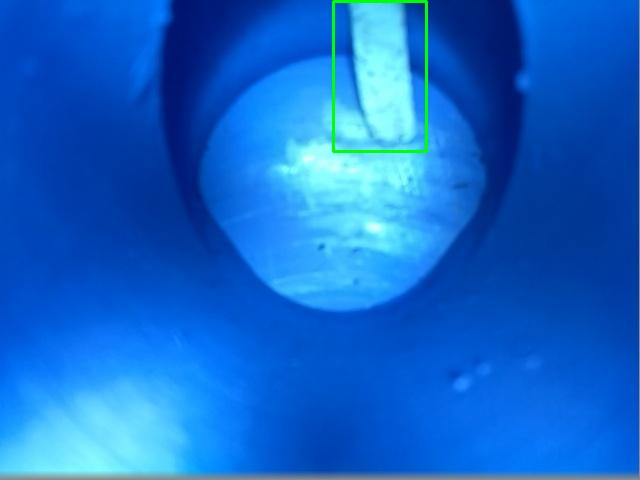megot: (333, 1, 426, 151)
